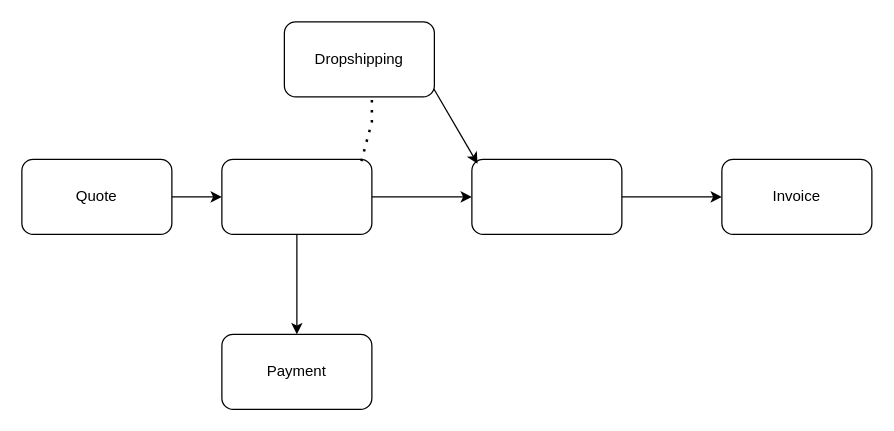
Some shapes in this 894 by 431 pixel diagram are drawn without their labels. The shapes that lost their labels are listed below. From the top down, each one's centre as x and y in pixels, then its label:
At point 296,196: "Sales Order".
At point 546,196: "Fulfillment".
